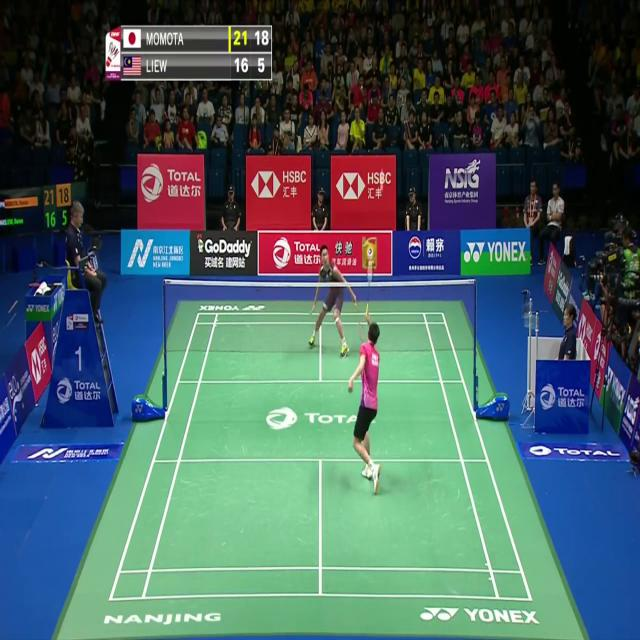Shuttlecock: (379, 179, 385, 191)
